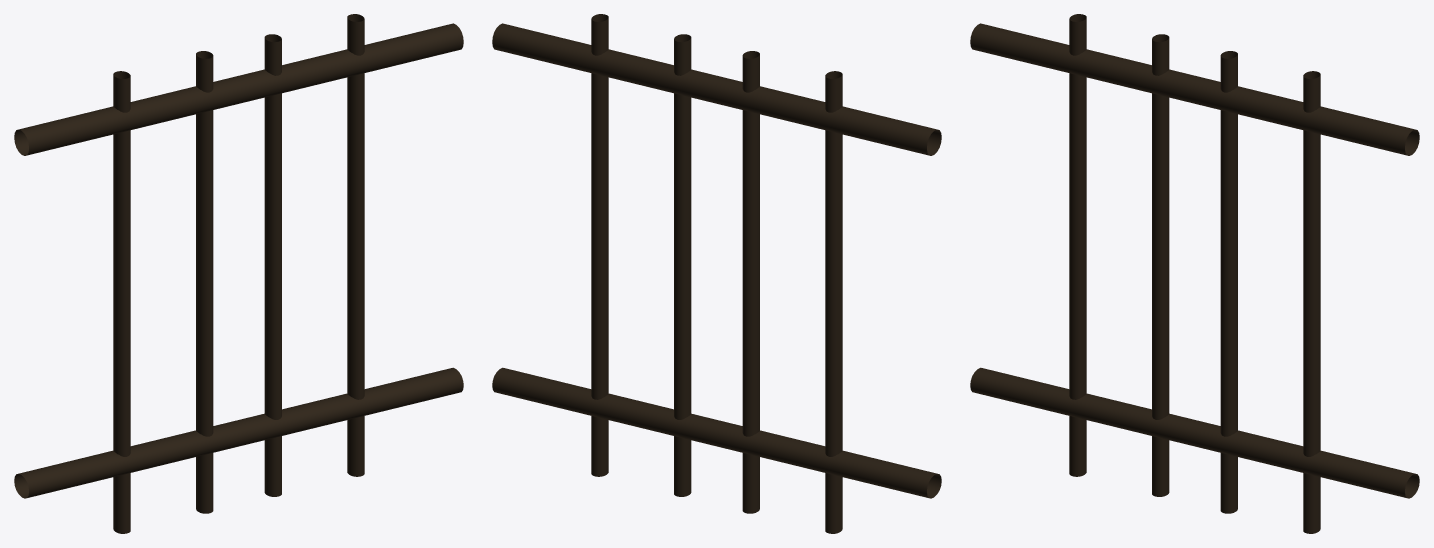
File: GrataC.fbx
3 views of the same model, side by side, from view 1: azimuth 30°, elevation 25°; view 2: azimuth 150°, elevation 25°; view 3: azimuth 330°, elevation 25° (orthographic).
Visible parts, largest first — view 1: Cube.006, GrataC; view 2: Cube.006, GrataC; view 3: Cube.006, GrataC.
Part boxes in pixels (x1,y1,x2,y2): Cube.006: [113, 14, 364, 533]; GrataC: [14, 23, 463, 498]; Cube.006: [591, 14, 842, 533]; GrataC: [492, 23, 941, 498]; Cube.006: [1069, 14, 1320, 533]; GrataC: [970, 23, 1419, 498].
Size of the model in its own units: 200 by 200 by 11.84.
